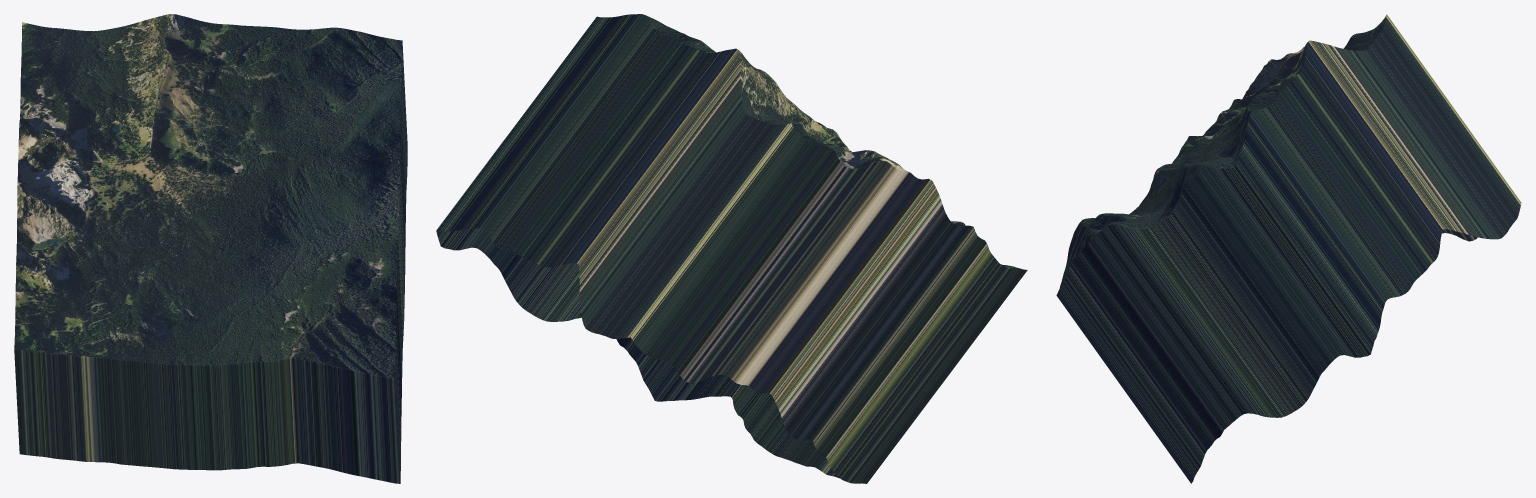
3 views of the same model, side by side, from view 1: azimuth 30°, elevation 25°; view 2: azimuth 150°, elevation 25°; view 3: azimuth 270°, elevation 25° (orthographic). The views are drawn at different scales.
Bounding box in the file's own units: 6267 × 5413 × 6021.
1 material, 1 textured.
